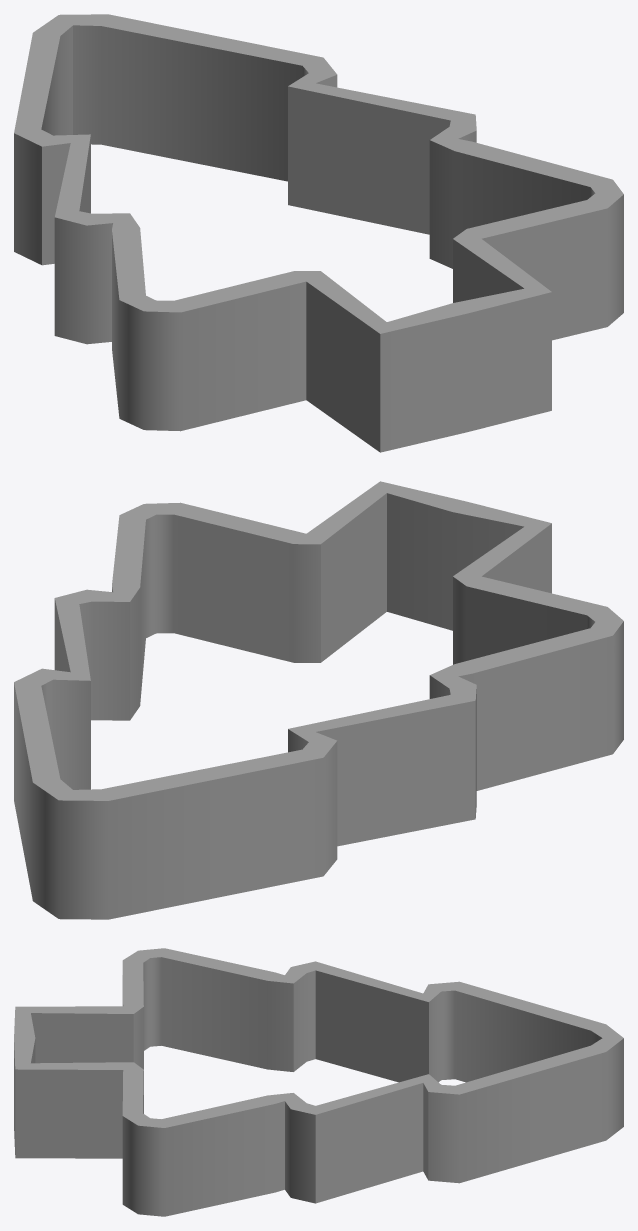
File: BiscuitCutter_Tree_01.fbx
3 views of the same model, one above another, from view 1: azimuth 30°, elevation 25°; view 2: azimuth 150°, elevation 25°; view 3: azimuth 270°, elevation 25° (orthographic). The views are drawn at different scales.
Parts seen in each view (by area): view 1: BiscuitCutter_Tree_01; view 2: BiscuitCutter_Tree_01; view 3: BiscuitCutter_Tree_01.
Boxes of the visible parts, x1=… form: BiscuitCutter_Tree_01: x1=14, y1=14, x2=623, y2=452; BiscuitCutter_Tree_01: x1=14, y1=481, x2=623, y2=919; BiscuitCutter_Tree_01: x1=14, y1=948, x2=623, y2=1216.
Bounding box in the file's own units: 0.0555 × 0.0128 × 0.0795.
